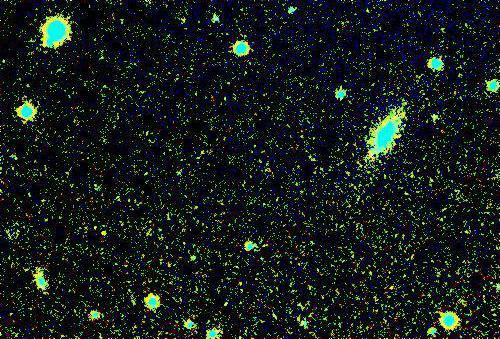star: (92, 218, 122, 248)
